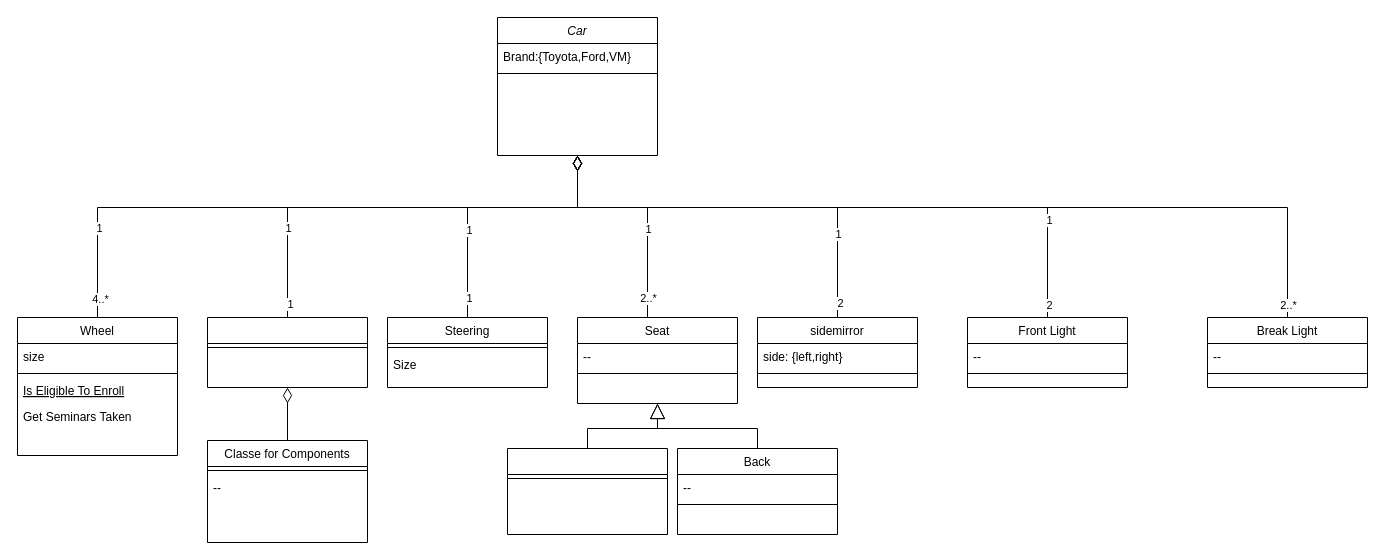
Image size: 1385x560. Some labels were removed from this diagram. Each missing label, with the centre of its shape:
"Front" goes at (587,491).
"Motor" goes at (287,352).
